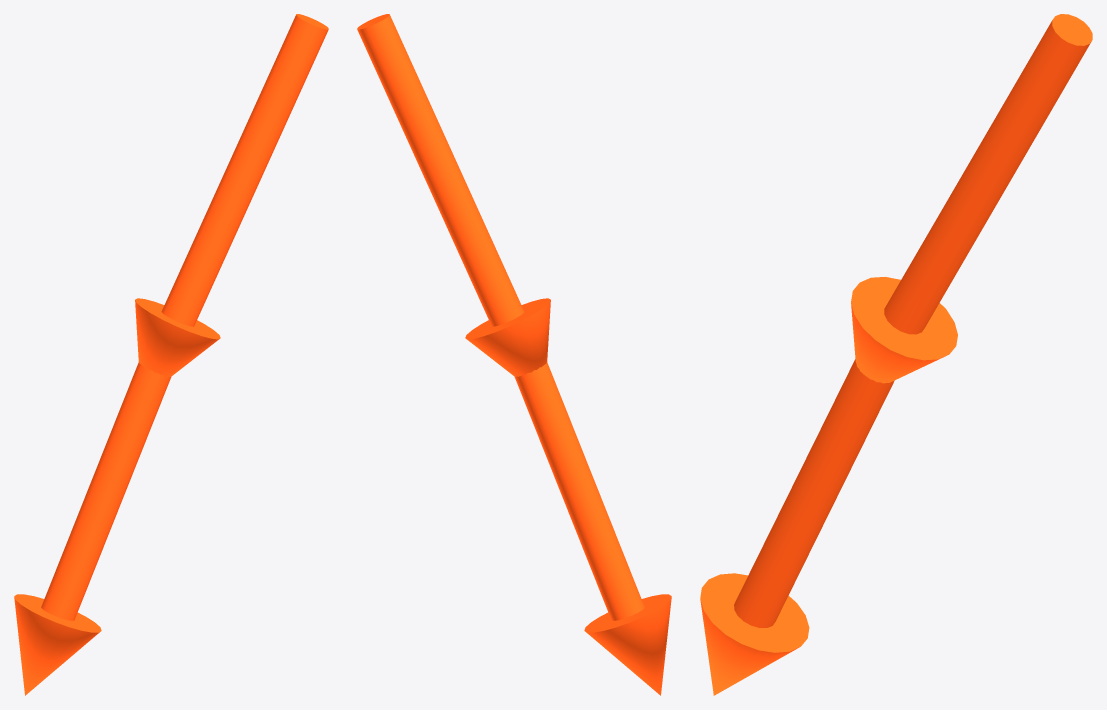
The model's file is m2p_haul_truck_flow.glb.
3 views of the same model, side by side, from view 1: azimuth 30°, elevation 25°; view 2: azimuth 150°, elevation 25°; view 3: azimuth 330°, elevation 25° (orthographic). The views are drawn at different scales.
Parts seen in each view (by area): view 1: dump; view 2: dump; view 3: dump.
Part boxes in pixels (bbox=[...]): dump: bbox=[14, 14, 328, 695]; dump: bbox=[357, 14, 671, 695]; dump: bbox=[700, 14, 1092, 695].
Bounding box in the file's own units: 1.56 × 2.98 × 0.416.
